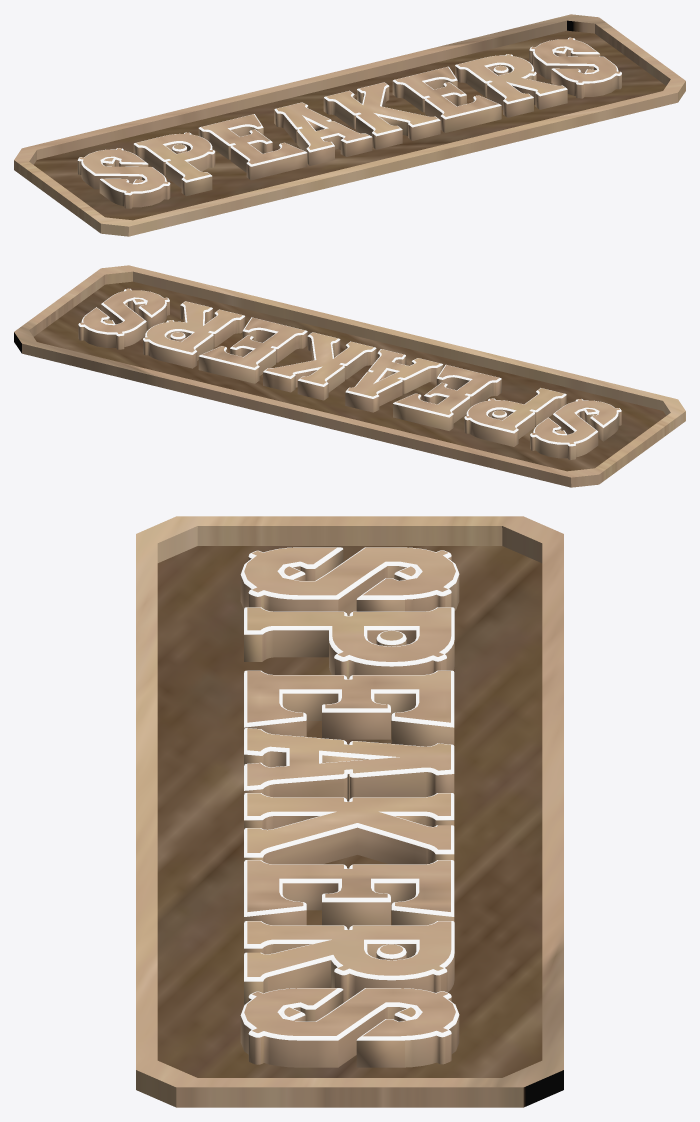
The model's file is SpeakerBoard-v2.glb.
3 views of the same model, one above another, from view 1: azimuth 30°, elevation 25°; view 2: azimuth 150°, elevation 25°; view 3: azimuth 270°, elevation 25° (orthographic). The views are drawn at different scales.
Parts seen in each view (by area): view 1: Plane.003, Text.089; view 2: Plane.003, Text.089; view 3: Plane.003, Text.089.
Boxes of the visible parts, left/top/right/bottom form: Plane.003: left=14, top=14, right=685, bottom=236; Text.089: left=77, top=37, right=621, bottom=208; Plane.003: left=14, top=265, right=685, bottom=487; Text.089: left=78, top=288, right=621, bottom=459; Plane.003: left=136, top=516, right=563, bottom=1107; Text.089: left=240, top=547, right=459, bottom=1067.
Bounding box in the file's own units: 3.6 × 0.1181 × 1.14.
Materials: 2 (1 with a texture image).
